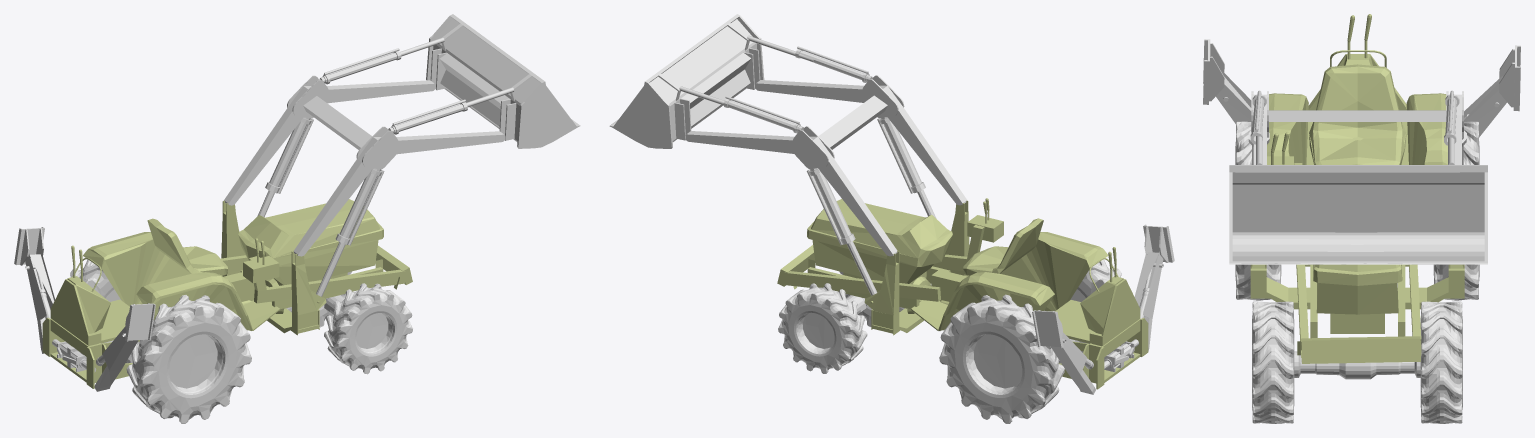
File: tractor1.fbx
The picture shows the model from 3 angles, left to right: view 1: azimuth 30°, elevation 25°; view 2: azimuth 150°, elevation 25°; view 3: azimuth 270°, elevation 25°; orthographic projection. The views are drawn at different scales.
Parts seen in each view (by area): view 1: MainBody, rr_tire, arms, frontBucket, fr_tire, stab2, stab03, armHydraulic_right, armHydraulic_left, frontBucketHydraulic001, rl_tire, frontBucketHydraulic002 (+1 smaller); view 2: MainBody, rl_tire, arms, frontBucket, fl_tire, stab03, stab2, armHydraulic_left, armHydraulic_right, rr_tire, frontBucketHydraulic001, frontBucketHydraulic002 (+1 smaller); view 3: MainBody, frontBucket, fr_tire, fl_tire, arms, stab03, stab2, front_axel, rr_tire, rl_tire, frontBucketHydraulic001, frontBucketHydraulic002.
Part boxes in pixels (bbox=[...]): MainBody: bbox=[42, 199, 412, 388]; rr_tire: bbox=[126, 295, 251, 423]; arms: bbox=[224, 75, 505, 256]; frontBucket: bbox=[426, 14, 580, 148]; fr_tire: bbox=[324, 283, 412, 374]; stab2: bbox=[94, 303, 155, 391]; stab03: bbox=[14, 227, 55, 353]; armHydraulic_right: bbox=[335, 168, 384, 245]; armHydraulic_left: bbox=[265, 117, 313, 193]; frontBucketHydraulic001: bbox=[319, 48, 401, 84]; rl_tire: bbox=[70, 259, 132, 363]; frontBucketHydraulic002: bbox=[388, 99, 467, 134]; MainBody: bbox=[777, 198, 1148, 389]; rl_tire: bbox=[939, 294, 1064, 423]; arms: bbox=[685, 75, 967, 256]; frontBucket: bbox=[609, 14, 764, 148]; fl_tire: bbox=[778, 283, 867, 373]; stab03: bbox=[1032, 310, 1095, 394]; stab2: bbox=[1134, 224, 1174, 351]; armHydraulic_left: bbox=[806, 168, 855, 245]; armHydraulic_right: bbox=[877, 117, 925, 193]; rr_tire: bbox=[1044, 259, 1121, 363]; frontBucketHydraulic001: bbox=[723, 96, 803, 133]; frontBucketHydraulic002: bbox=[795, 46, 872, 82]; MainBody: bbox=[1250, 14, 1464, 363]; frontBucket: bbox=[1229, 165, 1487, 264]; fr_tire: bbox=[1252, 301, 1294, 423]; fl_tire: bbox=[1420, 301, 1462, 423]; arms: bbox=[1251, 91, 1463, 164]; stab03: bbox=[1464, 45, 1520, 137]; stab2: bbox=[1203, 39, 1251, 123]; front_axel: bbox=[1294, 351, 1420, 379]; rr_tire: bbox=[1235, 121, 1281, 300]; rl_tire: bbox=[1433, 121, 1479, 300]; frontBucketHydraulic001: bbox=[1444, 90, 1459, 145]; frontBucketHydraulic002: bbox=[1250, 90, 1266, 144].
Size of what is drawn, in the model's own units: 671 by 279 by 350.
